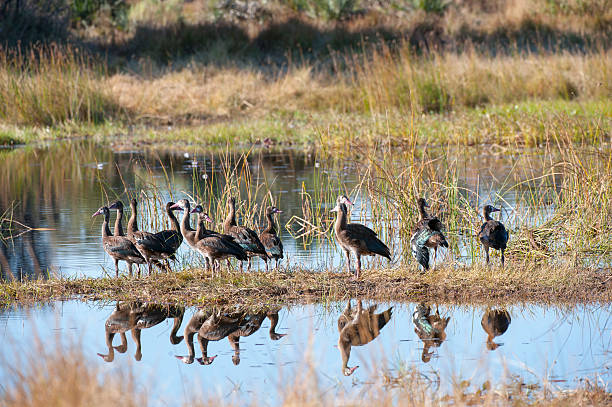goose: (320, 192, 396, 281), (166, 195, 248, 269), (407, 195, 453, 278), (192, 204, 243, 277), (139, 195, 186, 271), (468, 199, 517, 271), (91, 203, 140, 273), (129, 195, 170, 267), (224, 192, 262, 268), (109, 198, 153, 262), (259, 198, 292, 267)
